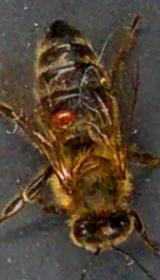varroa_mite: (40, 106, 80, 130)
